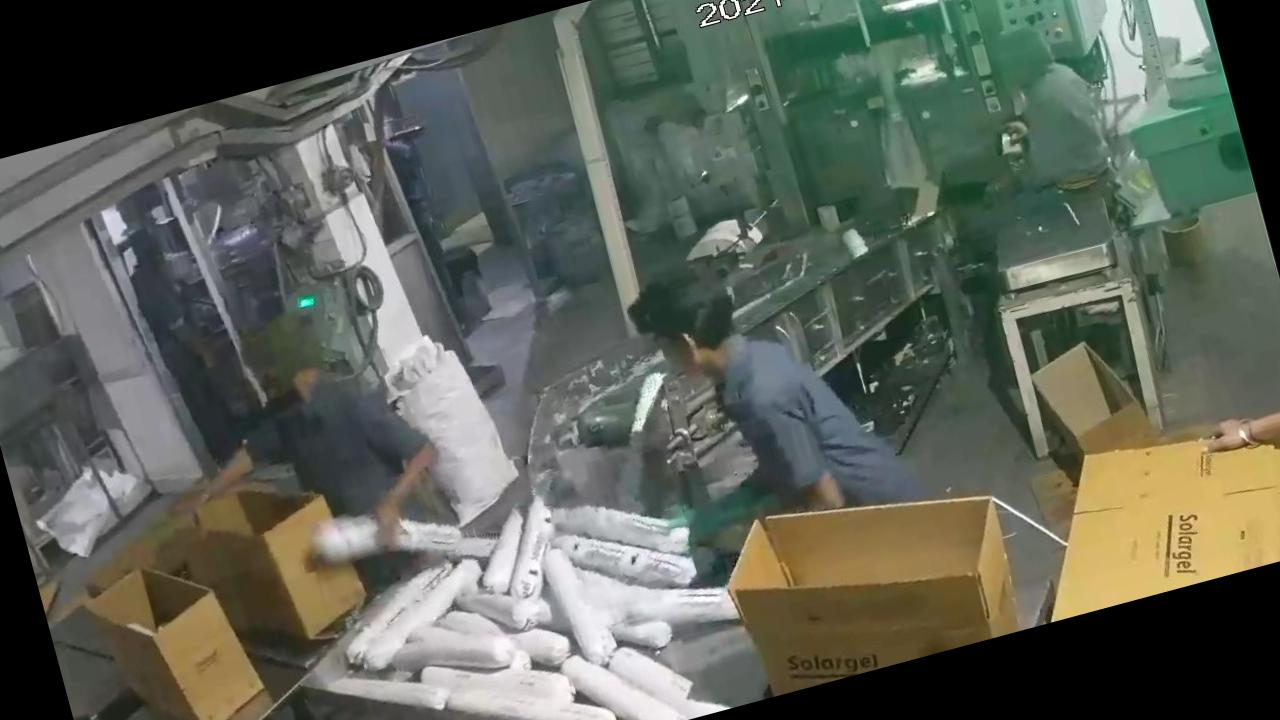Gloves: (630, 461, 799, 564)
No-gloves: (324, 418, 474, 566), (152, 421, 288, 523), (1170, 358, 1280, 472)
